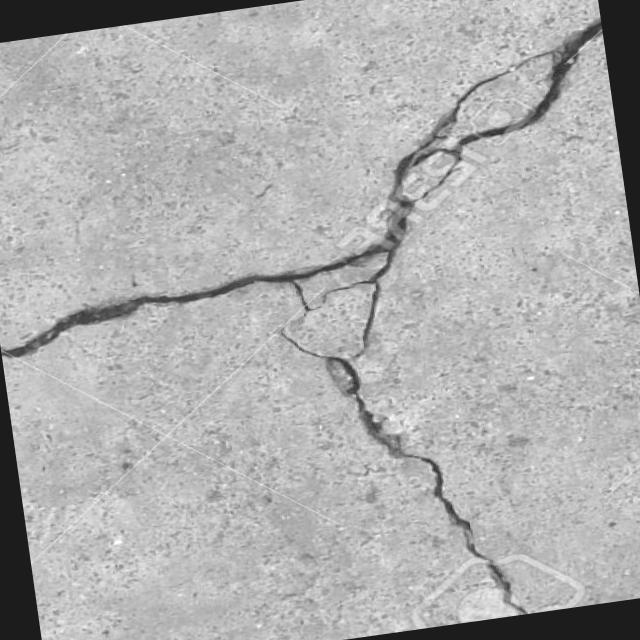crack: (271, 258, 529, 640), (356, 16, 624, 238), (0, 237, 413, 363)
